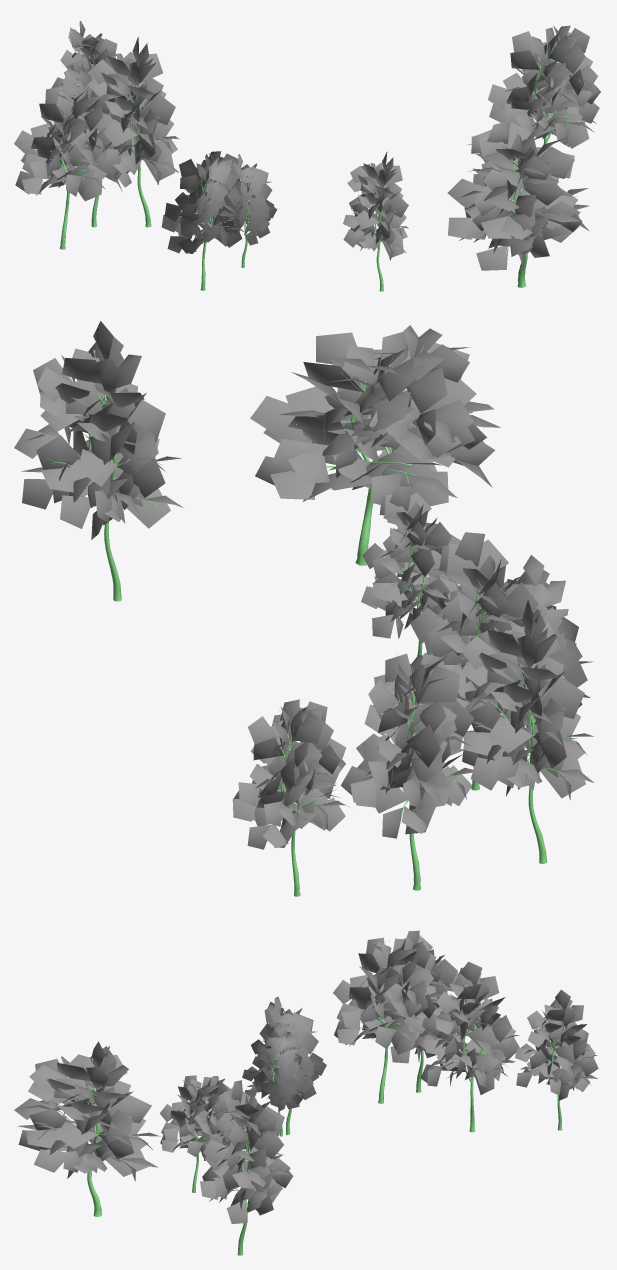
The model's file is Woods_Dawn_Trees_06.gltf.
The picture shows the model from 3 angles, top to bottom: view 1: azimuth 30°, elevation 25°; view 2: azimuth 150°, elevation 25°; view 3: azimuth 270°, elevation 25°; orthographic projection. The views are drawn at different scales.
Parts seen in each view (by area): view 1: Woods_Dawn_Trees_06; view 2: Woods_Dawn_Trees_06; view 3: Woods_Dawn_Trees_06.
Boxes of the visible parts, <box> form: Woods_Dawn_Trees_06: <box>14,21,600,291</box>; Woods_Dawn_Trees_06: <box>14,321,594,896</box>; Woods_Dawn_Trees_06: <box>14,930,598,1255</box>.
Bounding box in the file's own units: 256 × 111 × 281.
